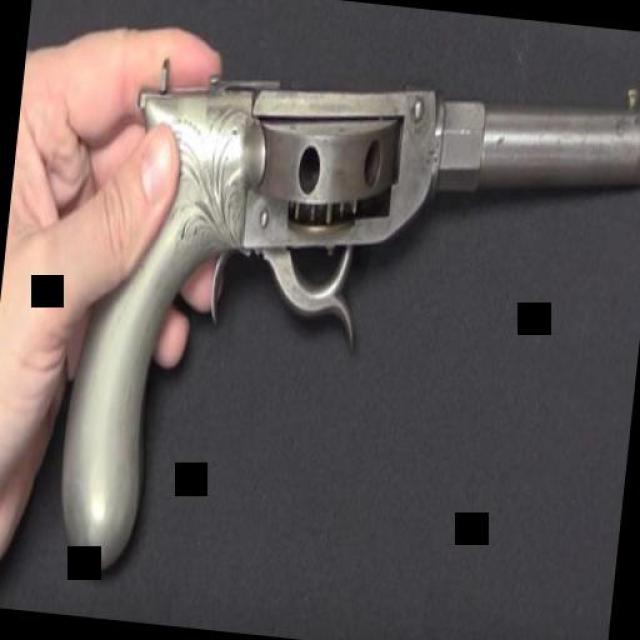gun: (47, 7, 640, 608)
